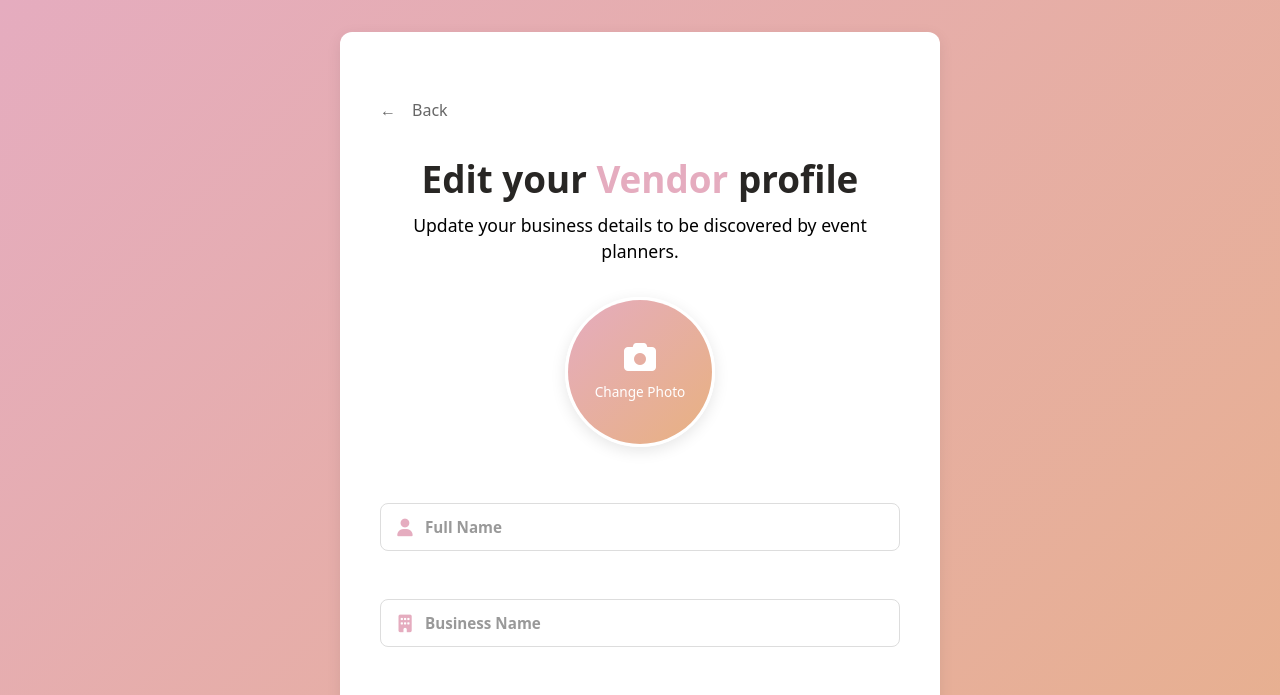
Test: EditVendorProfile Testing › handles form submission error during create
The width and height of the screenshot is (1280, 695).
Type "New Vendor" into the field next to "Full Name" at (640, 527), box top-left (380, 503), bottom-right (900, 551)
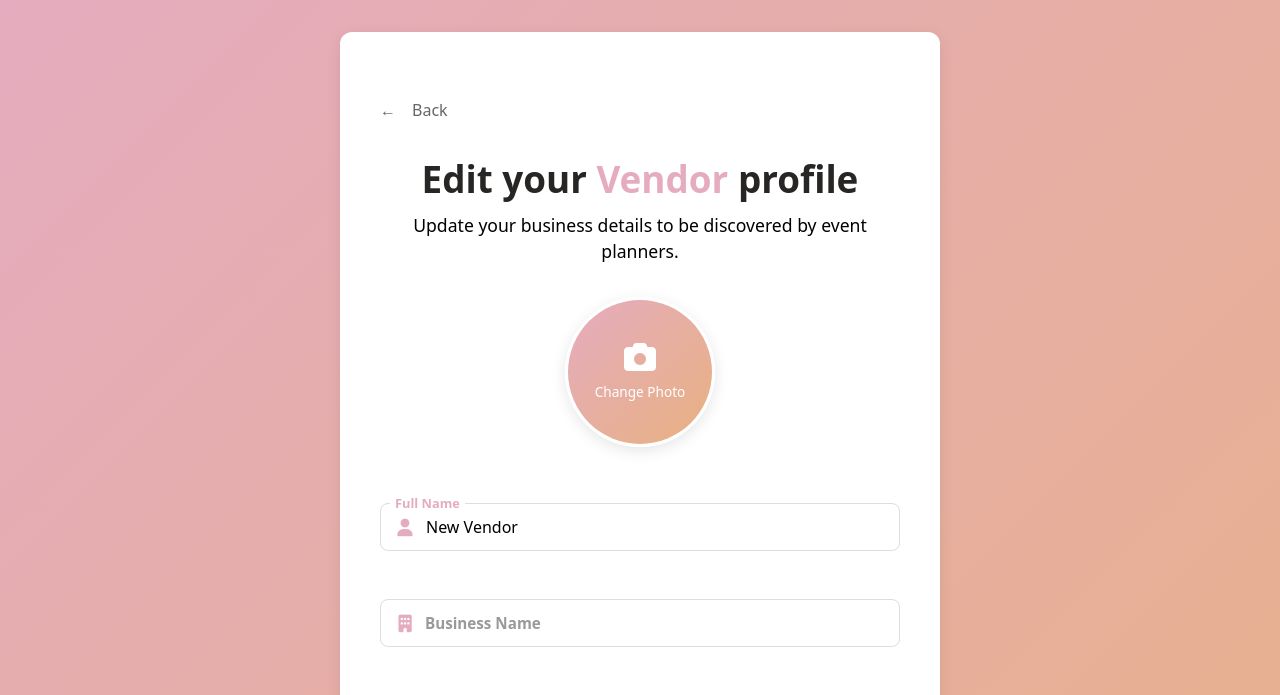
Type "New Business" into the field next to "Business Name" at (640, 623), box top-left (380, 599), bottom-right (900, 647)
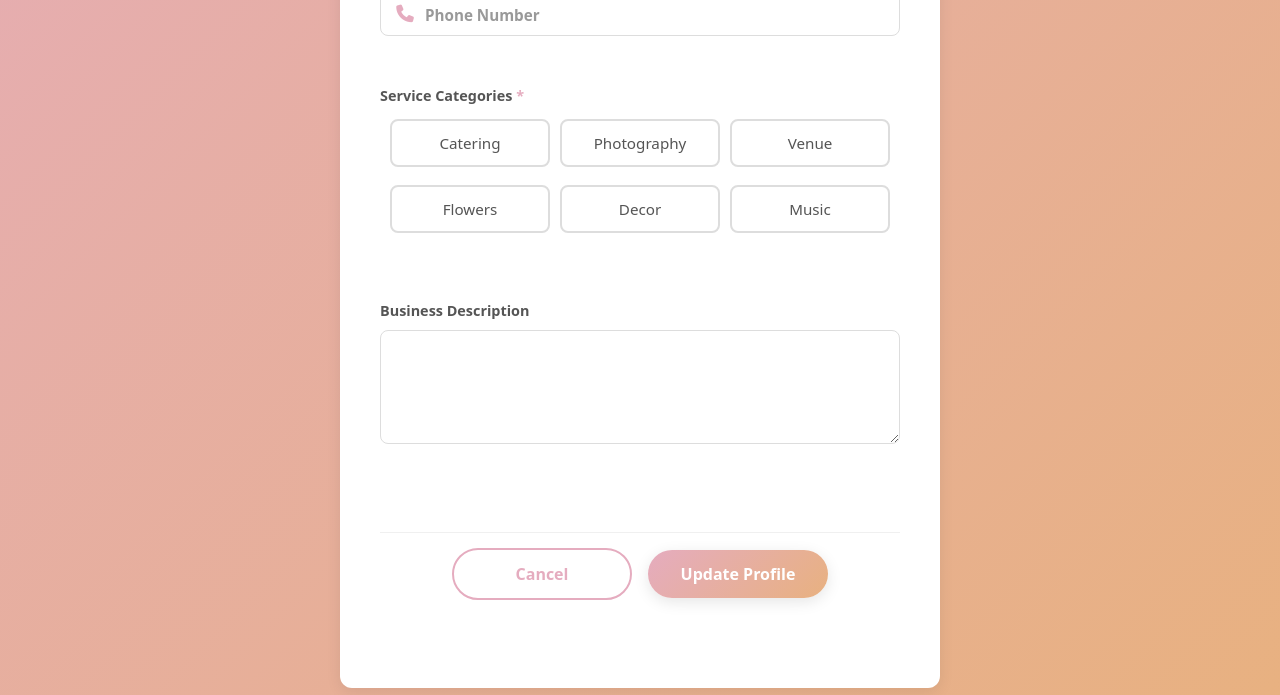
Click the button "Update Profile" at (738, 574), box top-left (648, 550), bottom-right (828, 598)
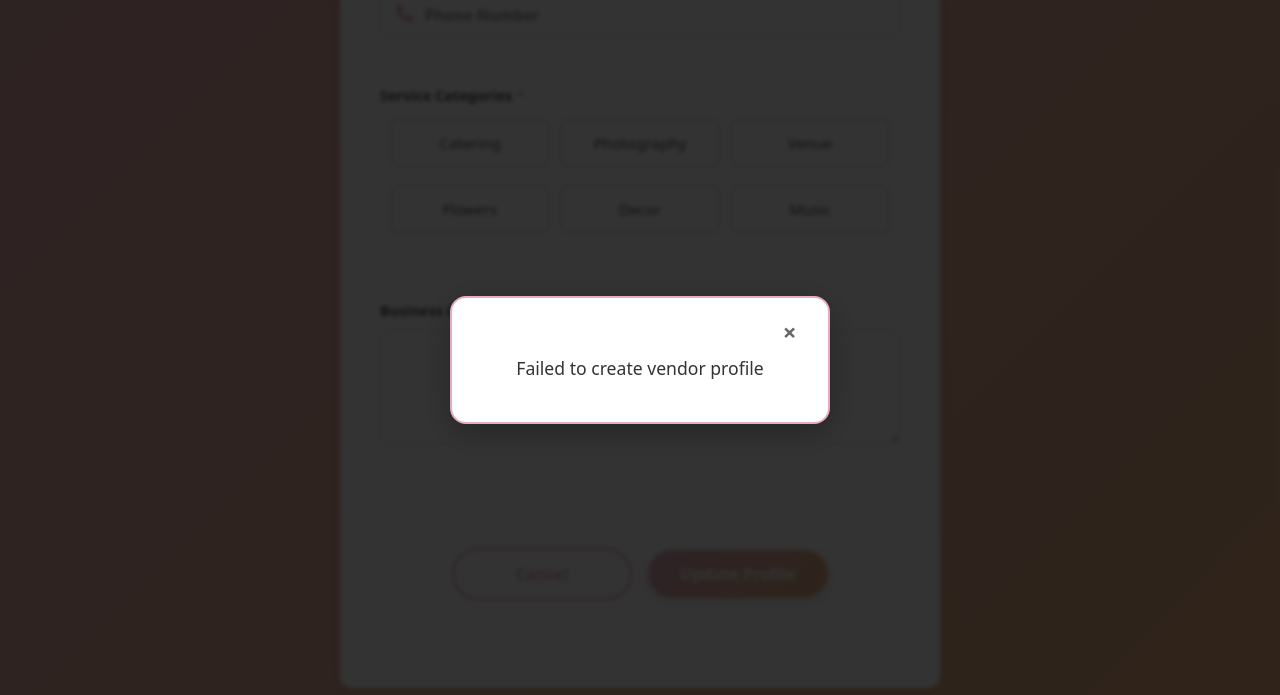
Now the text "Failed to create vendor profile" is shown, box top-left (500, 354), bottom-right (780, 382)
